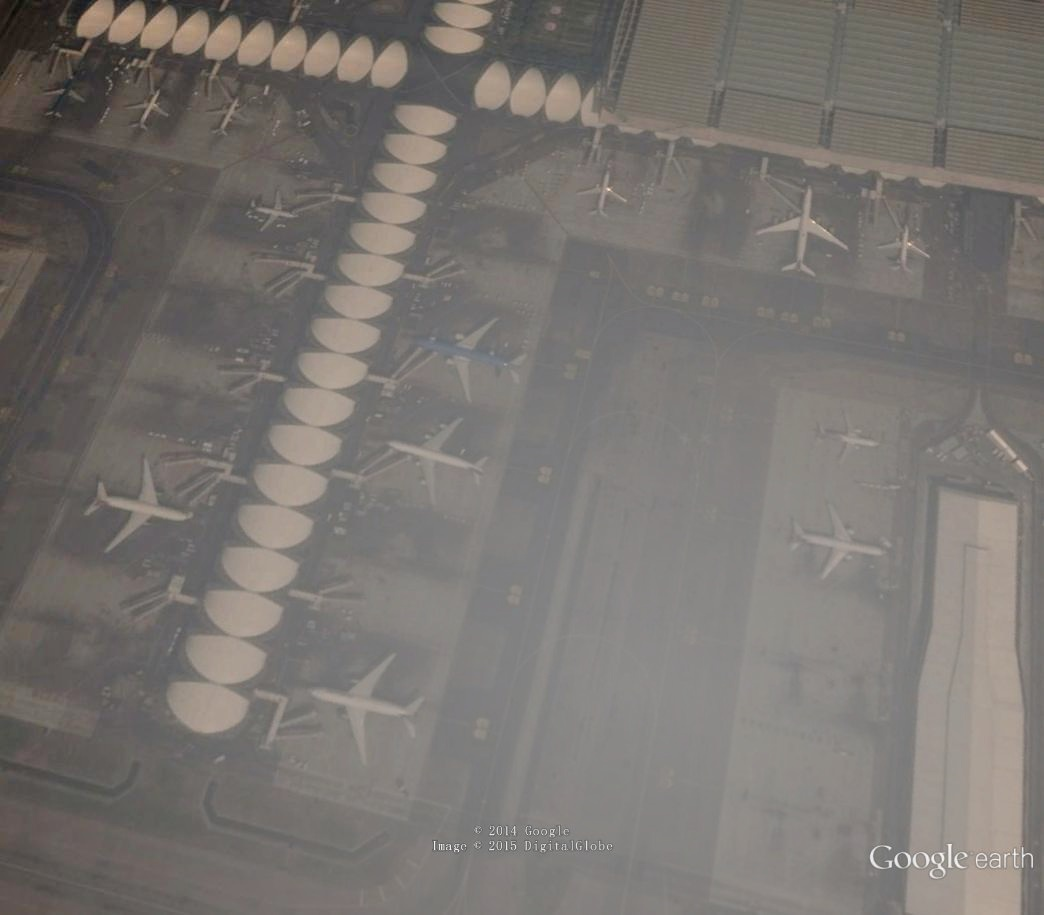aircraft: (304, 650, 432, 774), (77, 449, 196, 561), (409, 314, 537, 408), (382, 411, 493, 510), (751, 184, 855, 281), (785, 495, 891, 588), (811, 405, 881, 470), (872, 223, 935, 279), (574, 168, 633, 225), (243, 184, 301, 238), (35, 73, 91, 125), (125, 86, 176, 135), (202, 92, 251, 143)
